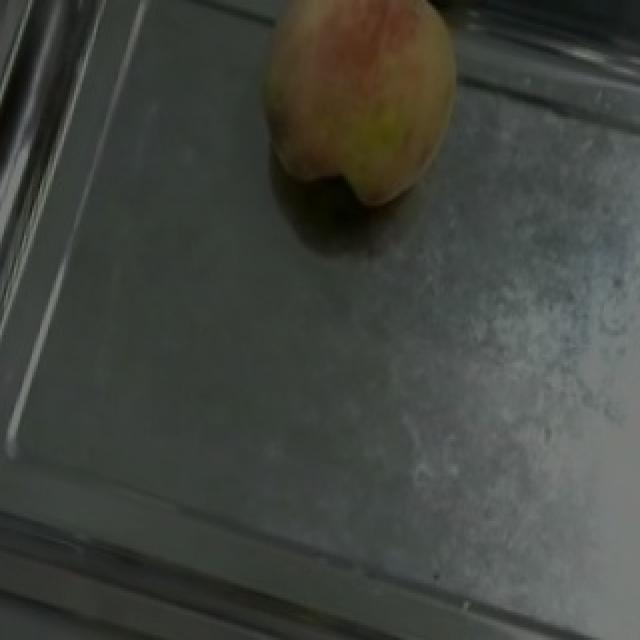Fruit: (224, 0, 492, 233)
